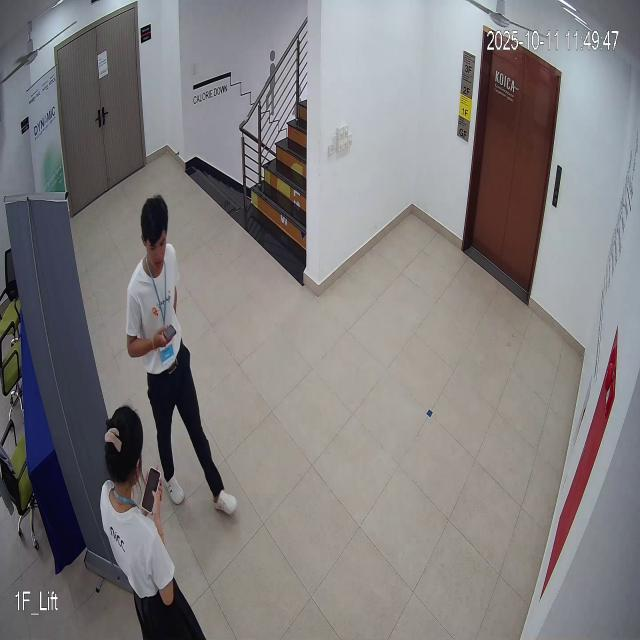face: (134, 186, 181, 282)
